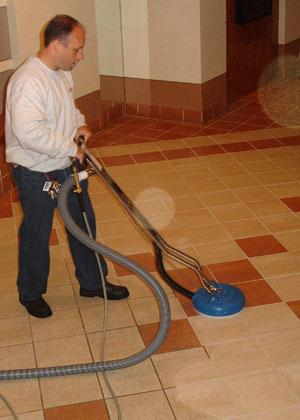person: (5, 16, 132, 320)
